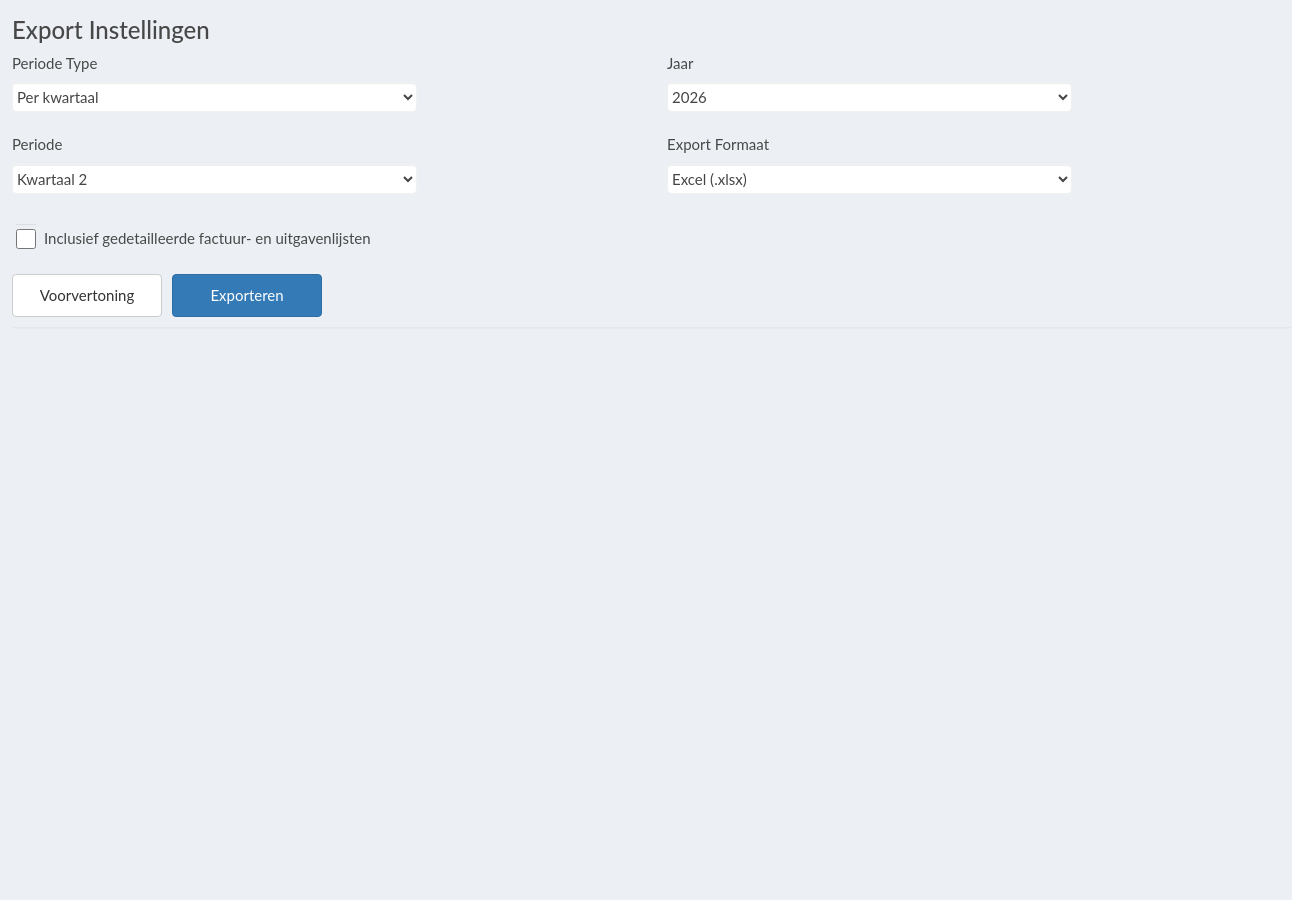
Test: VATReturnExport › loads a preview summary and renders the BTW totals and period info
Expected: the heading "Export Instellingen" is shown, [12, 15, 210, 44]
Select "Kwartaal 1" in the dropdown labelled "Periode". click: (214, 179)
box: [12, 164, 417, 194]
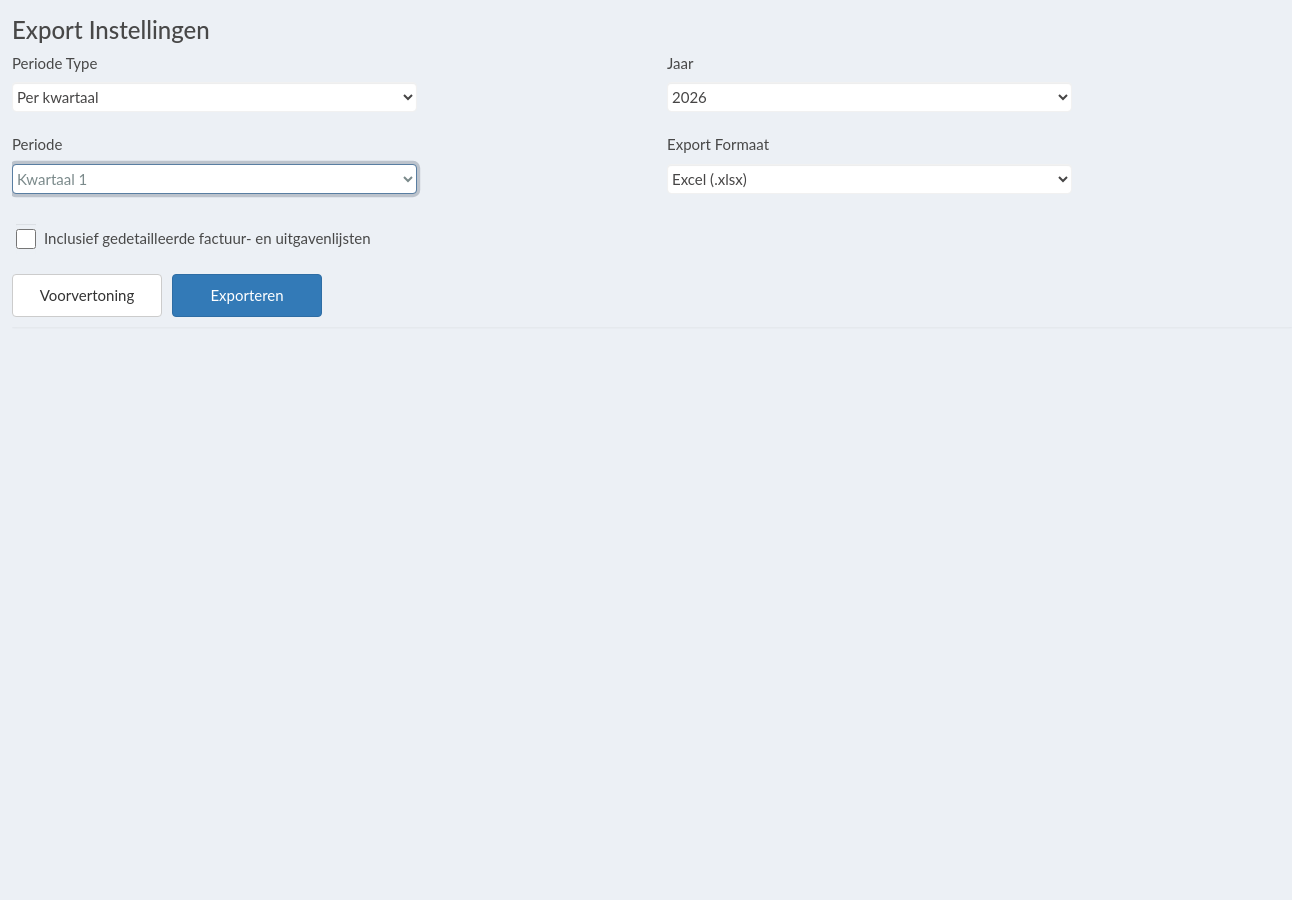
Click the button "Voorvertoning". click: (87, 295)
box: [12, 274, 162, 317]
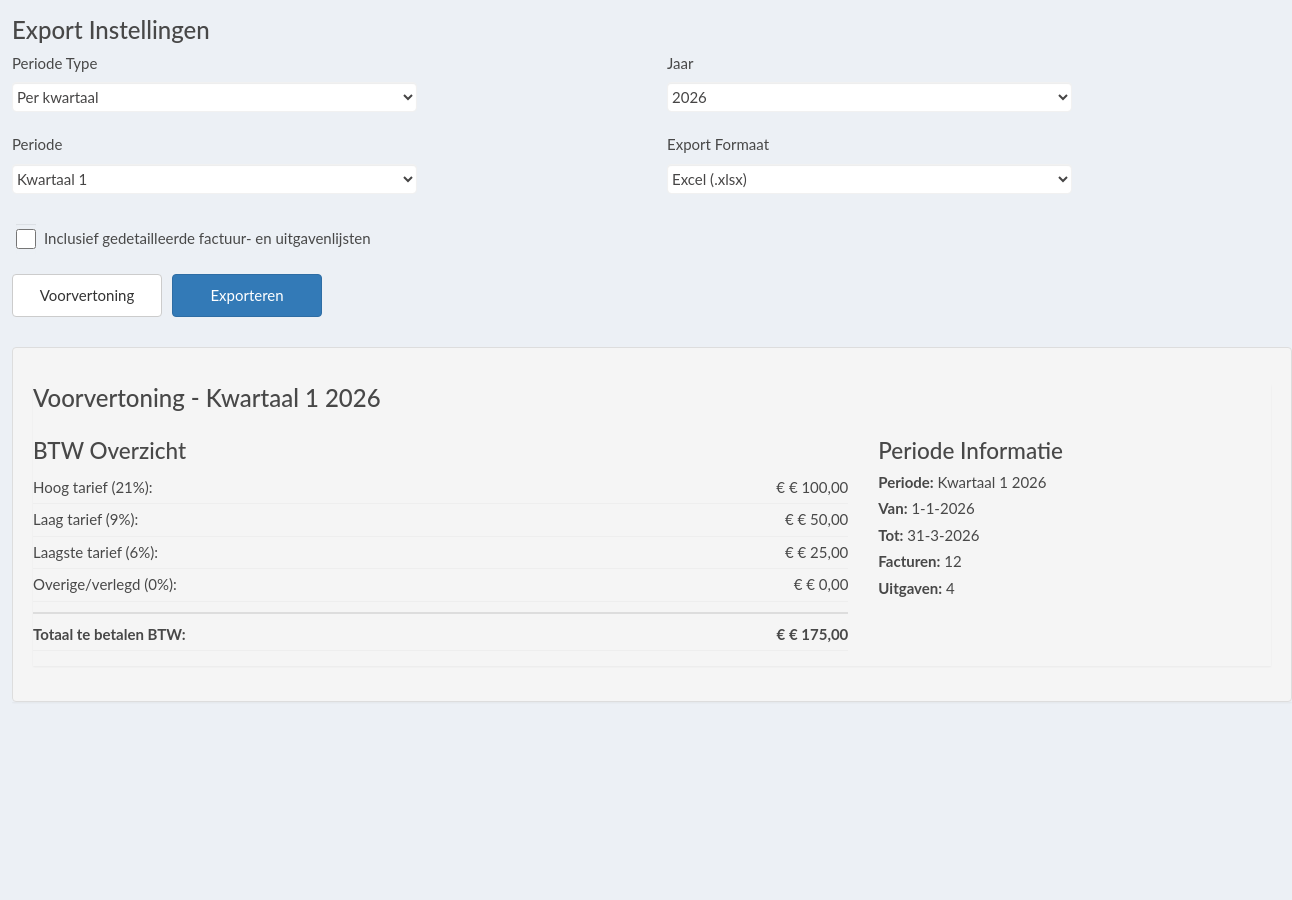
Result: the heading "BTW Overzicht" is shown at [33, 437, 186, 464]
Result: the text "12" is shown at [944, 552, 962, 570]
Result: the text "4" is shown at [946, 578, 955, 596]
